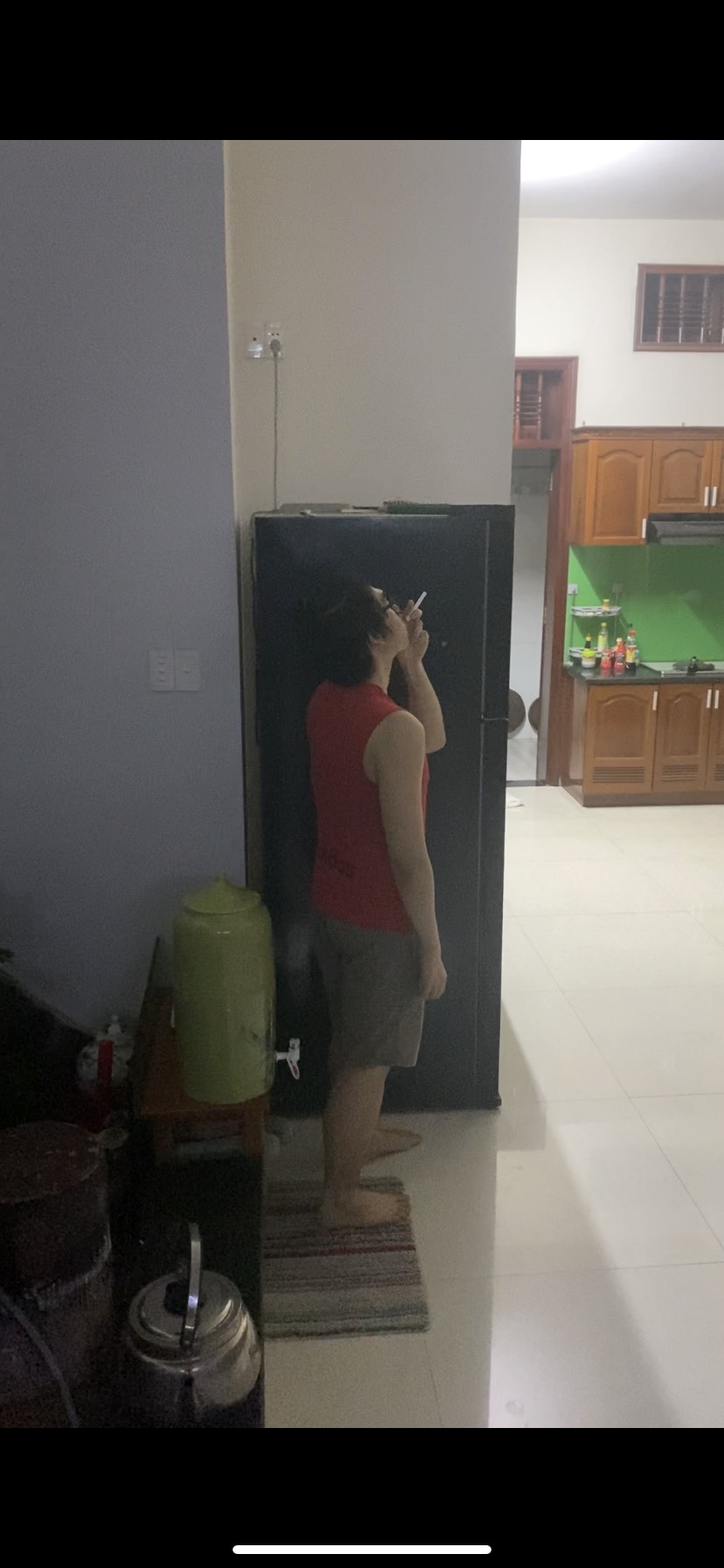cigarette: (411, 588, 431, 611)
